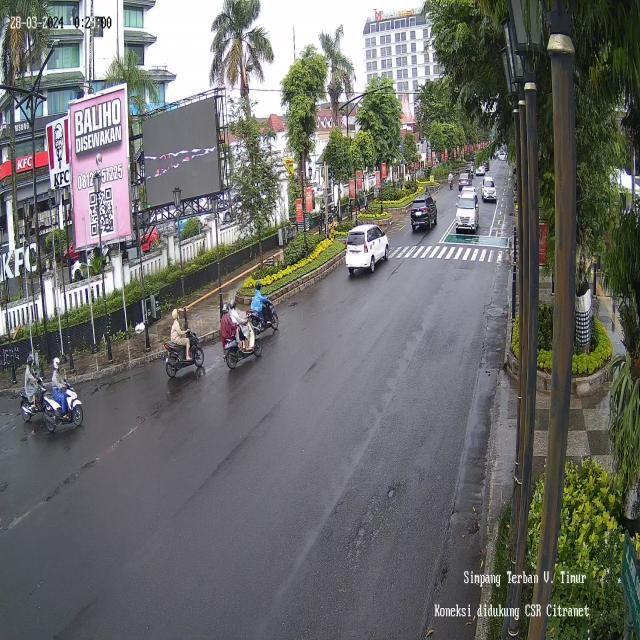car: (346, 224, 389, 276), (411, 196, 438, 231), (455, 190, 479, 228), (481, 177, 497, 200), (458, 173, 472, 189)
motorcycle: (44, 357, 84, 436), (163, 304, 204, 374), (220, 300, 262, 368), (19, 355, 51, 426), (247, 279, 278, 334), (448, 170, 453, 190)
